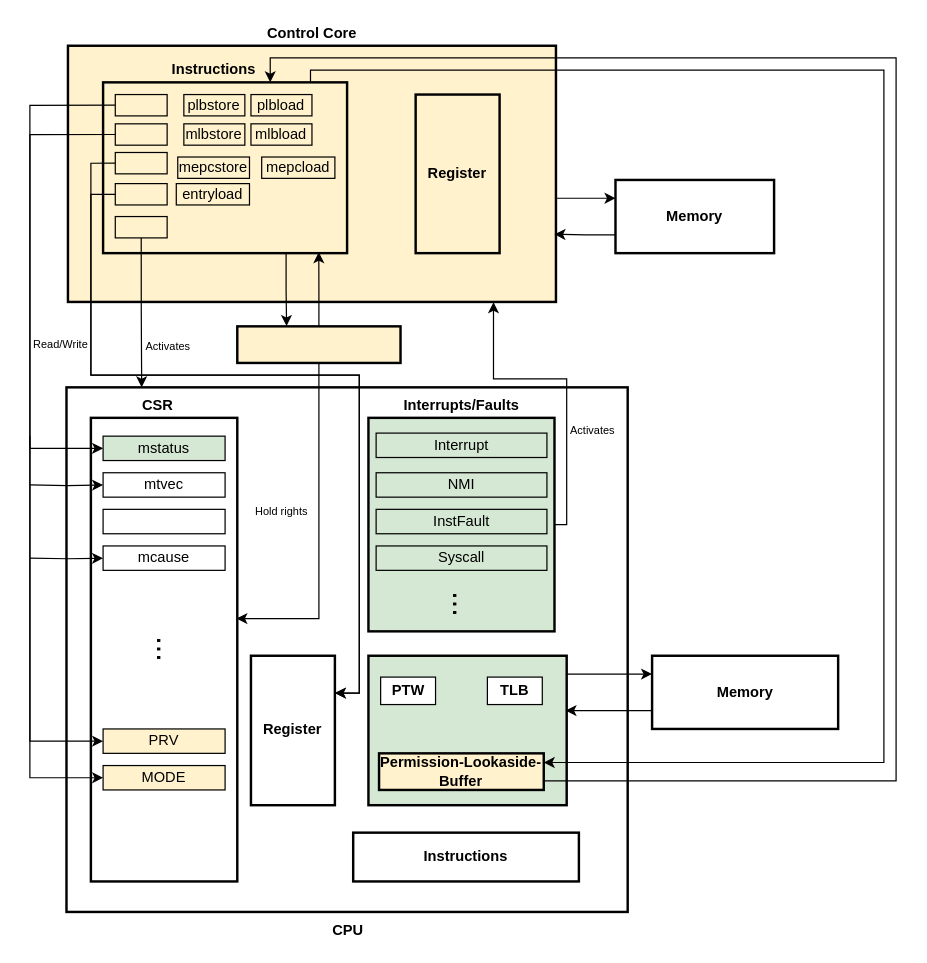
Image size: 927x963. Some labels were removed from this diagram. The shapes that lost their labels are listed below. From the top down, each one's box as (x1, y1, x2, y2) in pixels, then its label:
(114, 93, 167, 116): f_scsr
(114, 123, 167, 145): flcsr
(114, 151, 167, 174): wfr
(114, 182, 167, 205): rfr
(114, 215, 167, 238): mret
(235, 325, 401, 364): Mode-Lookaside-Buffer
(102, 508, 225, 534): mepc
(367, 654, 567, 806): MMU
